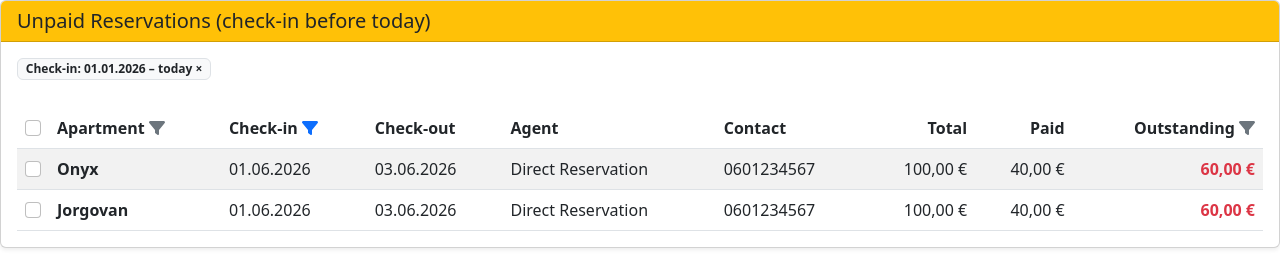
Test: UnpaidReservationsReport › Batch write-off › should select and unselect all rows on the page via the header checkbox
The image size is (1280, 267).
Expected: the text "Onyx" is shown, [57,158,99,180]
What coordinates should you click on to do the following:
click the checkbox named "select all on this page"
I would click on:
 (33, 128)
Its box is [25,120,41,136].
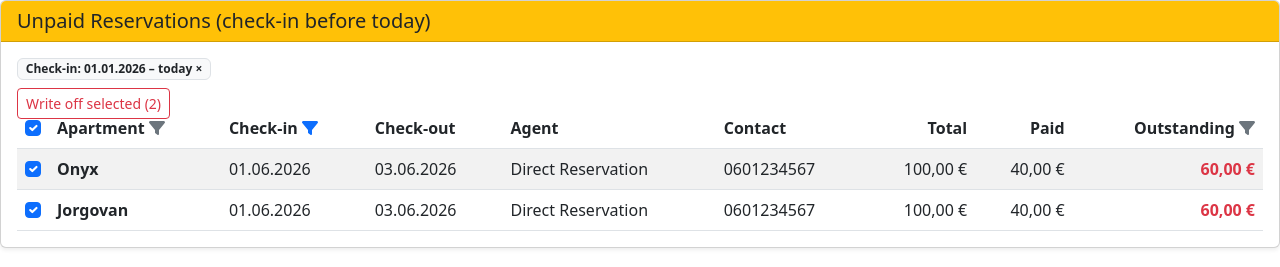
Now the button "Write off selected (2)" is shown, box [17,88,170,119]
What coordinates should you click on to do the following:
click the checkbox named "select all on this page"
I would click on:
 (33, 128)
Its box is [25,120,41,136].
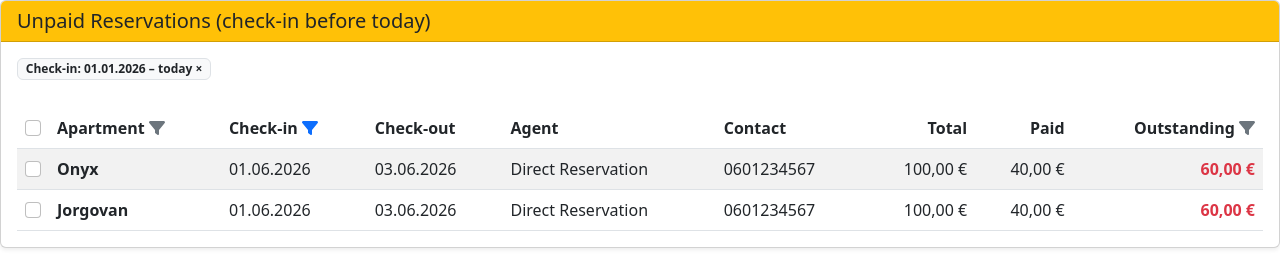
Now the button "Write off selected" is gone
